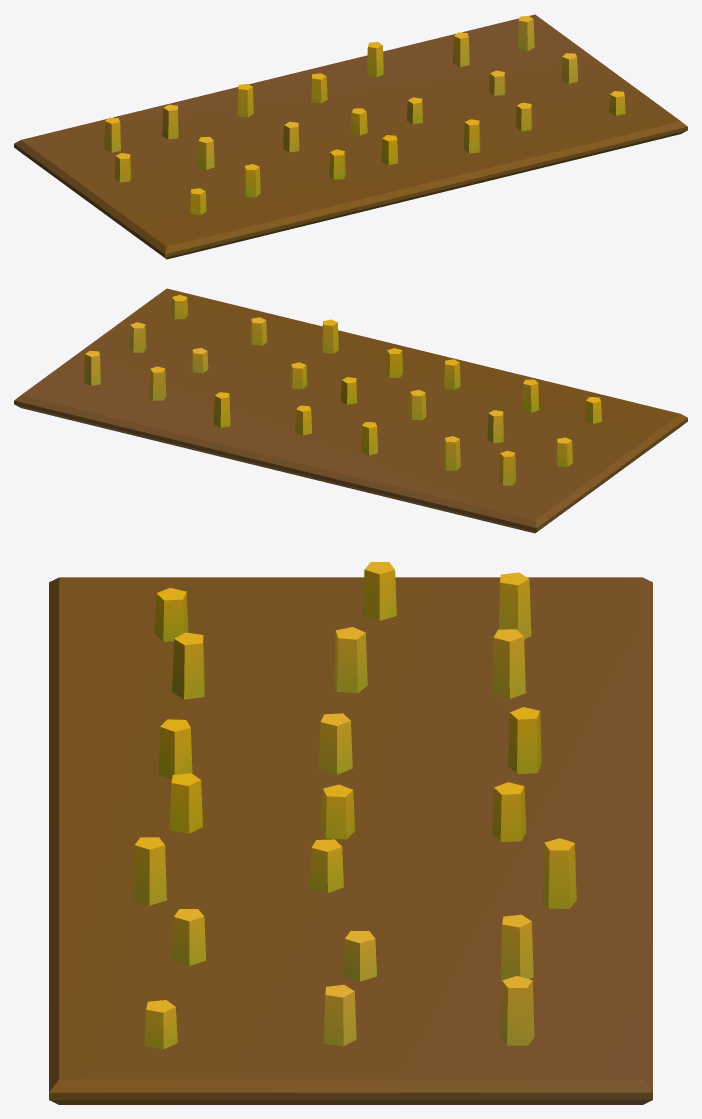
File: Farm_Wheat_Harvested_3m.fbx
3 renders of one model, top to bottom at view 1: azimuth 30°, elevation 25°; view 2: azimuth 150°, elevation 25°; view 3: azimuth 270°, elevation 25°, orthographic. The views are drawn at different scales.
Visible parts, largest first — view 1: Farm_Wheat_Harvested_3m; view 2: Farm_Wheat_Harvested_3m; view 3: Farm_Wheat_Harvested_3m.
Boxes of the visible parts, x1,y1,x2,y2 form: Farm_Wheat_Harvested_3m: (14, 14, 687, 259); Farm_Wheat_Harvested_3m: (14, 288, 687, 533); Farm_Wheat_Harvested_3m: (49, 562, 652, 1104).
Size of the model in its own units: 3 by 0.2283 by 1.5.
